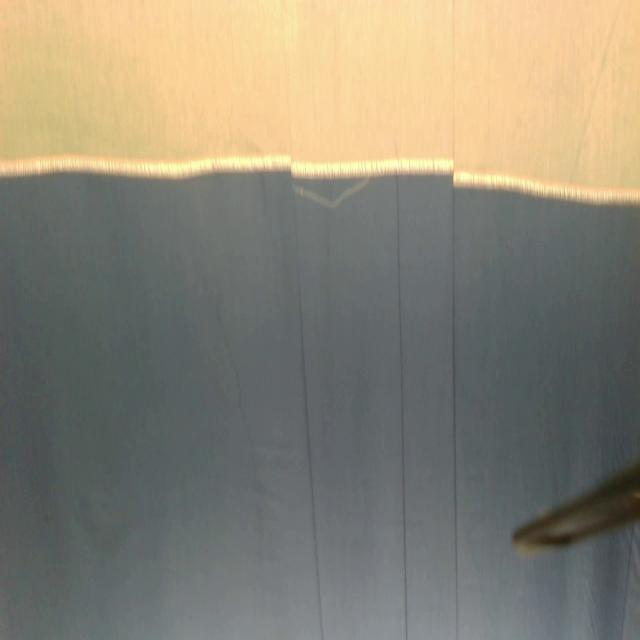crease: (290, 169, 326, 640), (394, 175, 410, 640), (451, 184, 461, 640), (620, 525, 637, 640)
